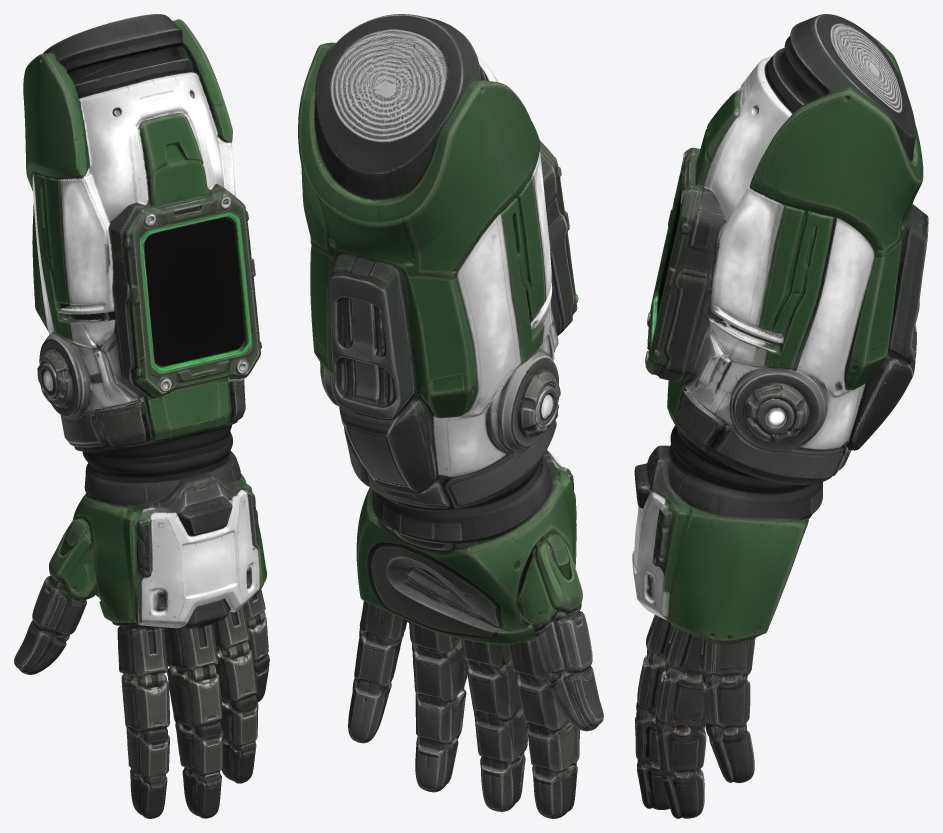
The model's file is UNRIGGEDLEFT.fbx.
3 renders of one model, left to right at view 1: azimuth 30°, elevation 25°; view 2: azimuth 150°, elevation 25°; view 3: azimuth 270°, elevation 25°, orthographic. The views are drawn at different scales.
Parts seen in each view (by area): view 1: Mesh_0; view 2: Mesh_0; view 3: Mesh_0.
Boxes of the visible parts, x1=… form: Mesh_0: x1=14, y1=14, x2=269, y2=818; Mesh_0: x1=298, y1=14, x2=603, y2=818; Mesh_0: x1=632, y1=14, x2=928, y2=818.
Bounding box in the file's own units: 61.93 × 190 × 65.15.
Materials: 1 (1 with a texture image).
